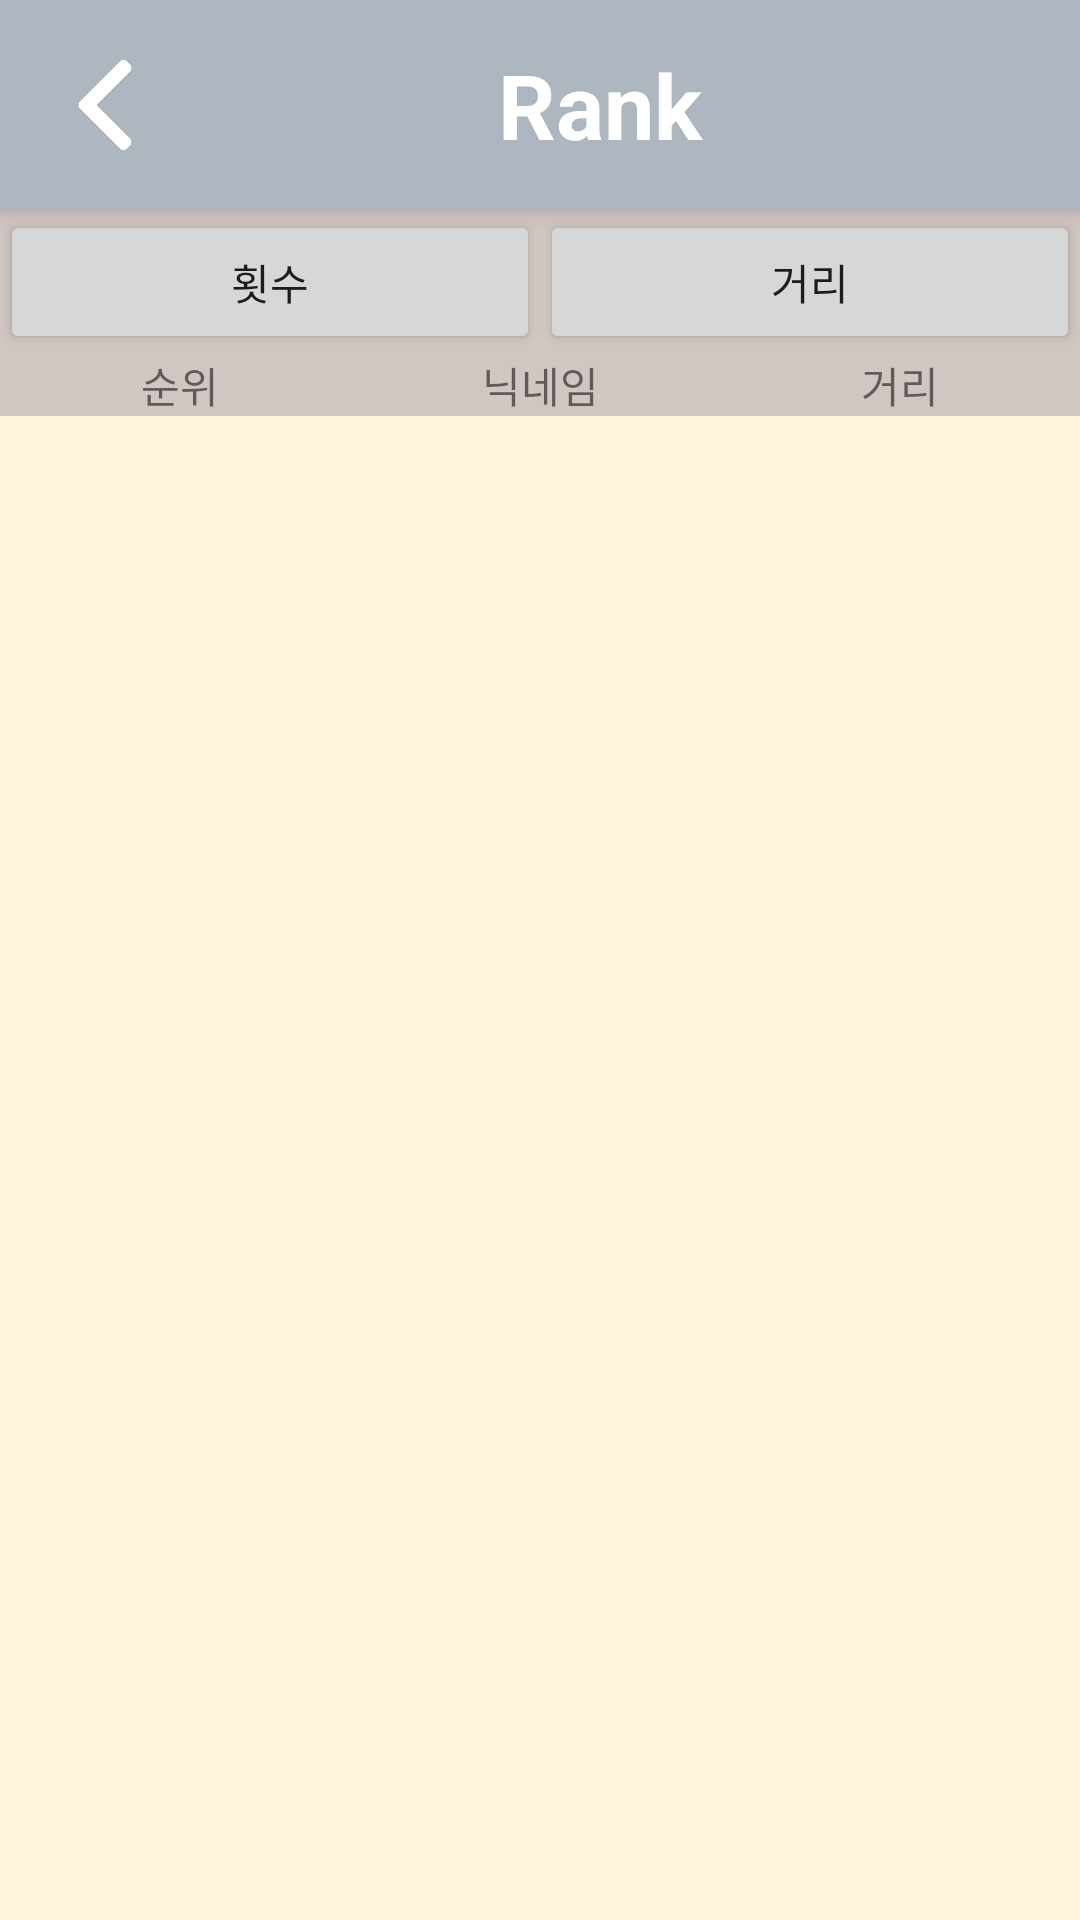

Named icons in this screenshot (1080*1920) and their centers, point (x, y):
leftarrow: point (105, 105)
